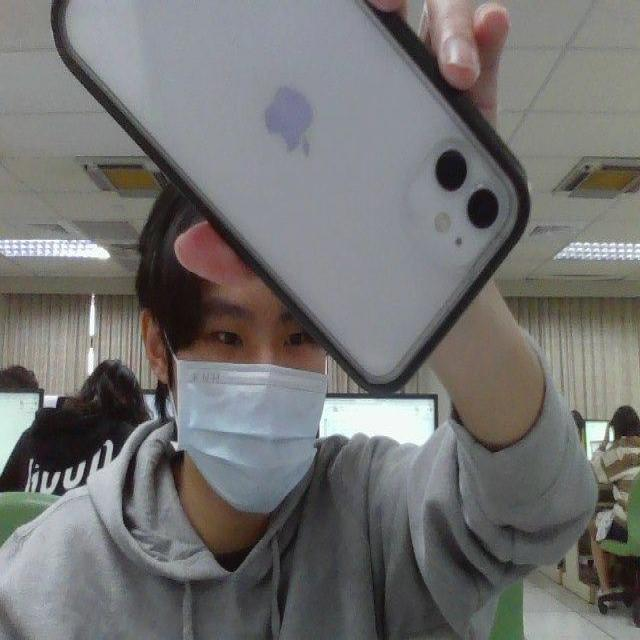ph: (32, 2, 539, 416)
